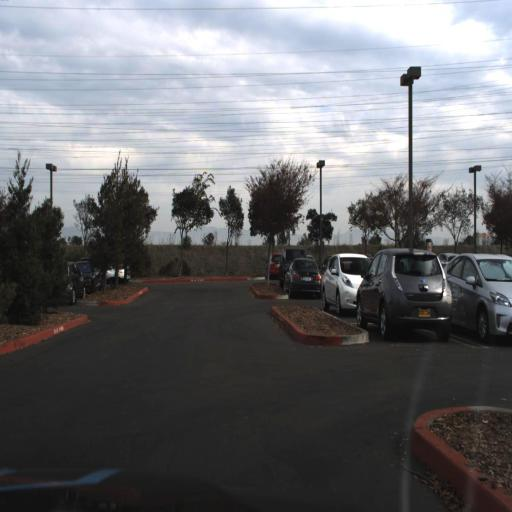car: (356, 244, 457, 341), (434, 250, 512, 346), (319, 251, 371, 316), (284, 258, 324, 300), (58, 258, 89, 306), (75, 257, 106, 292), (279, 243, 306, 279), (263, 250, 283, 280), (107, 265, 127, 282)
